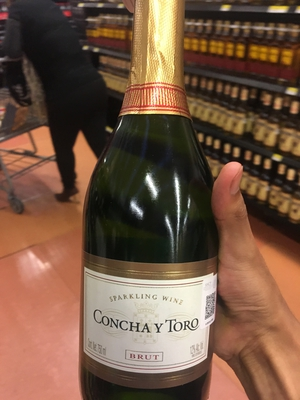brut: (76, 13, 224, 400)
